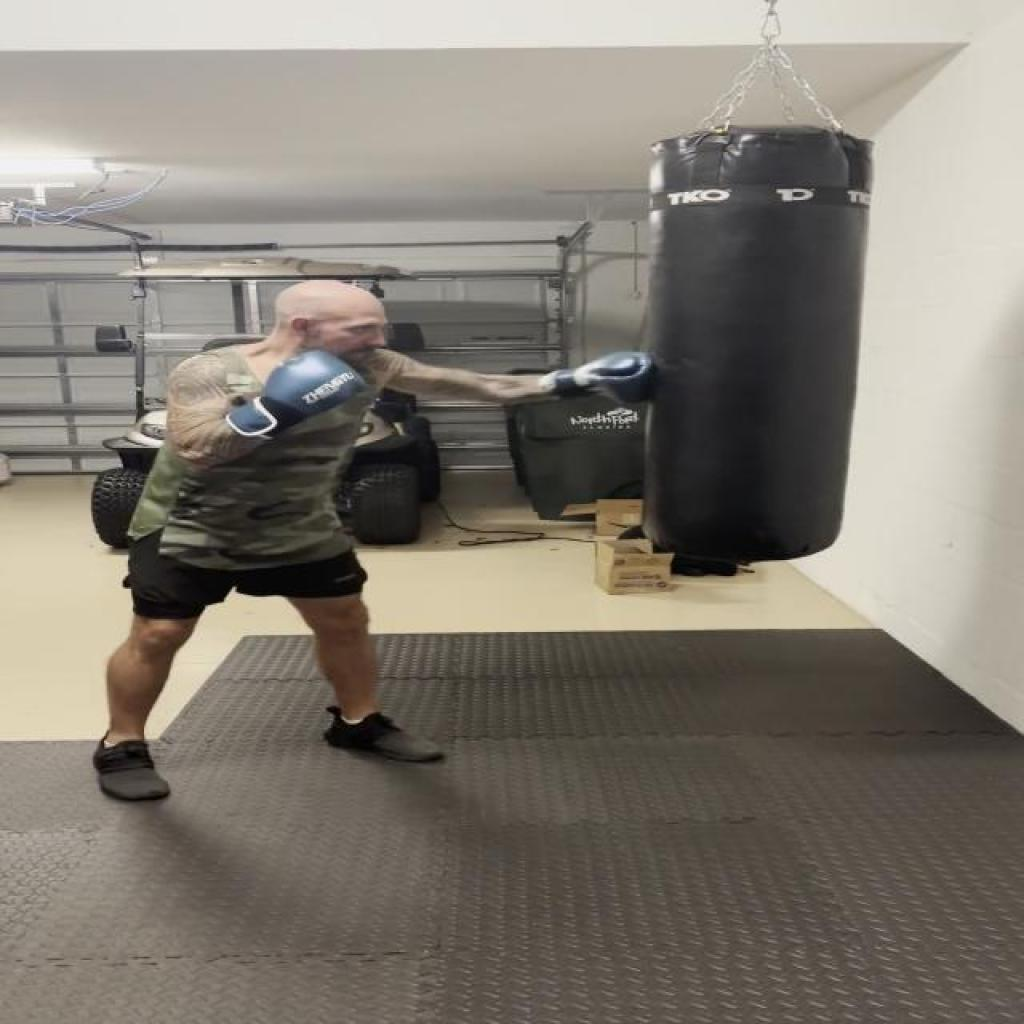bag: (648, 136, 877, 570)
jab: (138, 270, 666, 556)
